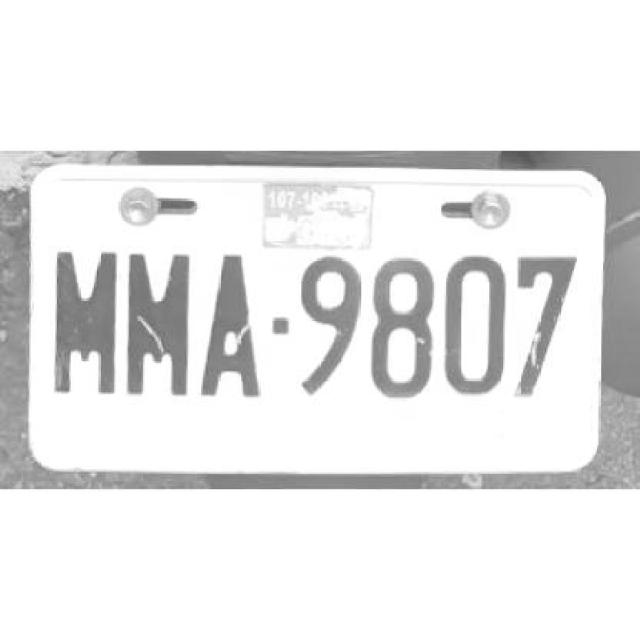-: (269, 314, 291, 335)
0: (443, 254, 509, 397)
7: (512, 257, 578, 400)
8: (371, 257, 434, 400)
9: (298, 252, 364, 397)
A: (198, 254, 260, 400)
M: (126, 252, 189, 398), (54, 252, 115, 396)
